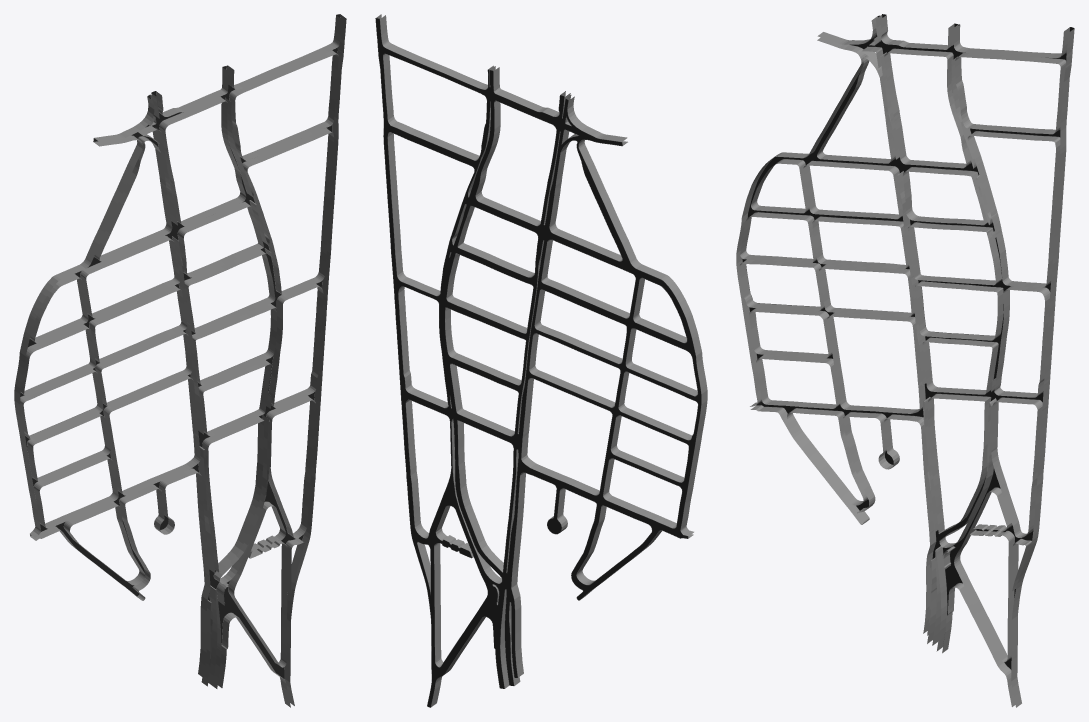
Rendered from Roads.fbx.
3 views of the same model, side by side, from view 1: azimuth 30°, elevation 25°; view 2: azimuth 150°, elevation 25°; view 3: azimuth 330°, elevation 25° (orthographic).
Visible parts, largest first — view 1: Plane.002; view 2: Plane.002; view 3: Plane.002.
Part boxes in pixels (left/top/right/bottom): Plane.002: left=14, top=14, right=346, bottom=707; Plane.002: left=375, top=14, right=707, bottom=707; Plane.002: left=736, top=14, right=1074, bottom=707.
Size of the model in its own units: 99.55 by 197 by 3.8.
